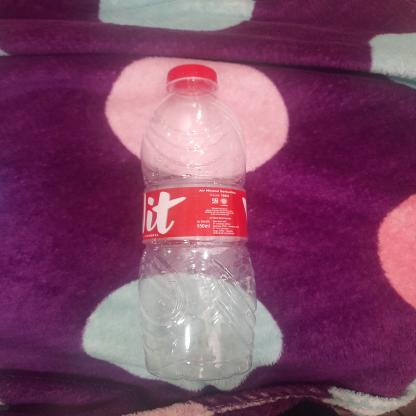bottle: (132, 60, 260, 396)
